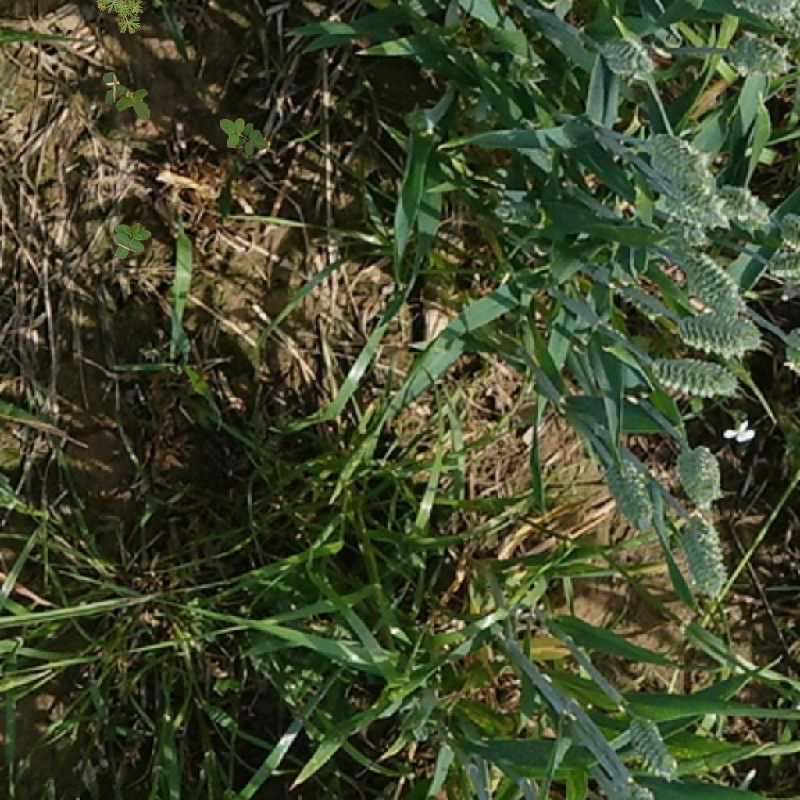spikelet: (635, 129, 717, 195), (637, 351, 745, 401), (595, 449, 655, 535), (669, 507, 729, 591), (665, 300, 759, 353), (619, 713, 687, 781), (677, 245, 745, 311), (585, 25, 659, 83), (726, 29, 799, 80), (715, 183, 779, 239), (671, 439, 725, 503), (614, 271, 670, 329), (661, 183, 725, 231), (733, 1, 800, 31), (763, 245, 800, 285), (777, 319, 800, 381), (773, 208, 800, 253), (602, 778, 657, 800), (496, 60, 546, 84), (398, 108, 436, 135)
weed: (93, 1, 153, 43), (103, 72, 150, 120), (220, 118, 268, 155), (114, 223, 152, 259)
